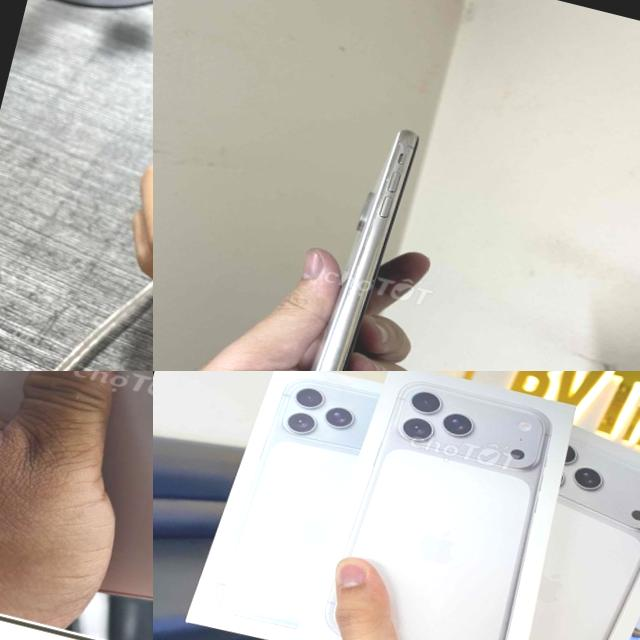gen_12_13: (0, 371, 153, 625)
gen_17: (312, 371, 590, 640)
gen_x_xs: (310, 130, 418, 371)
scratch: (392, 139, 424, 158)
